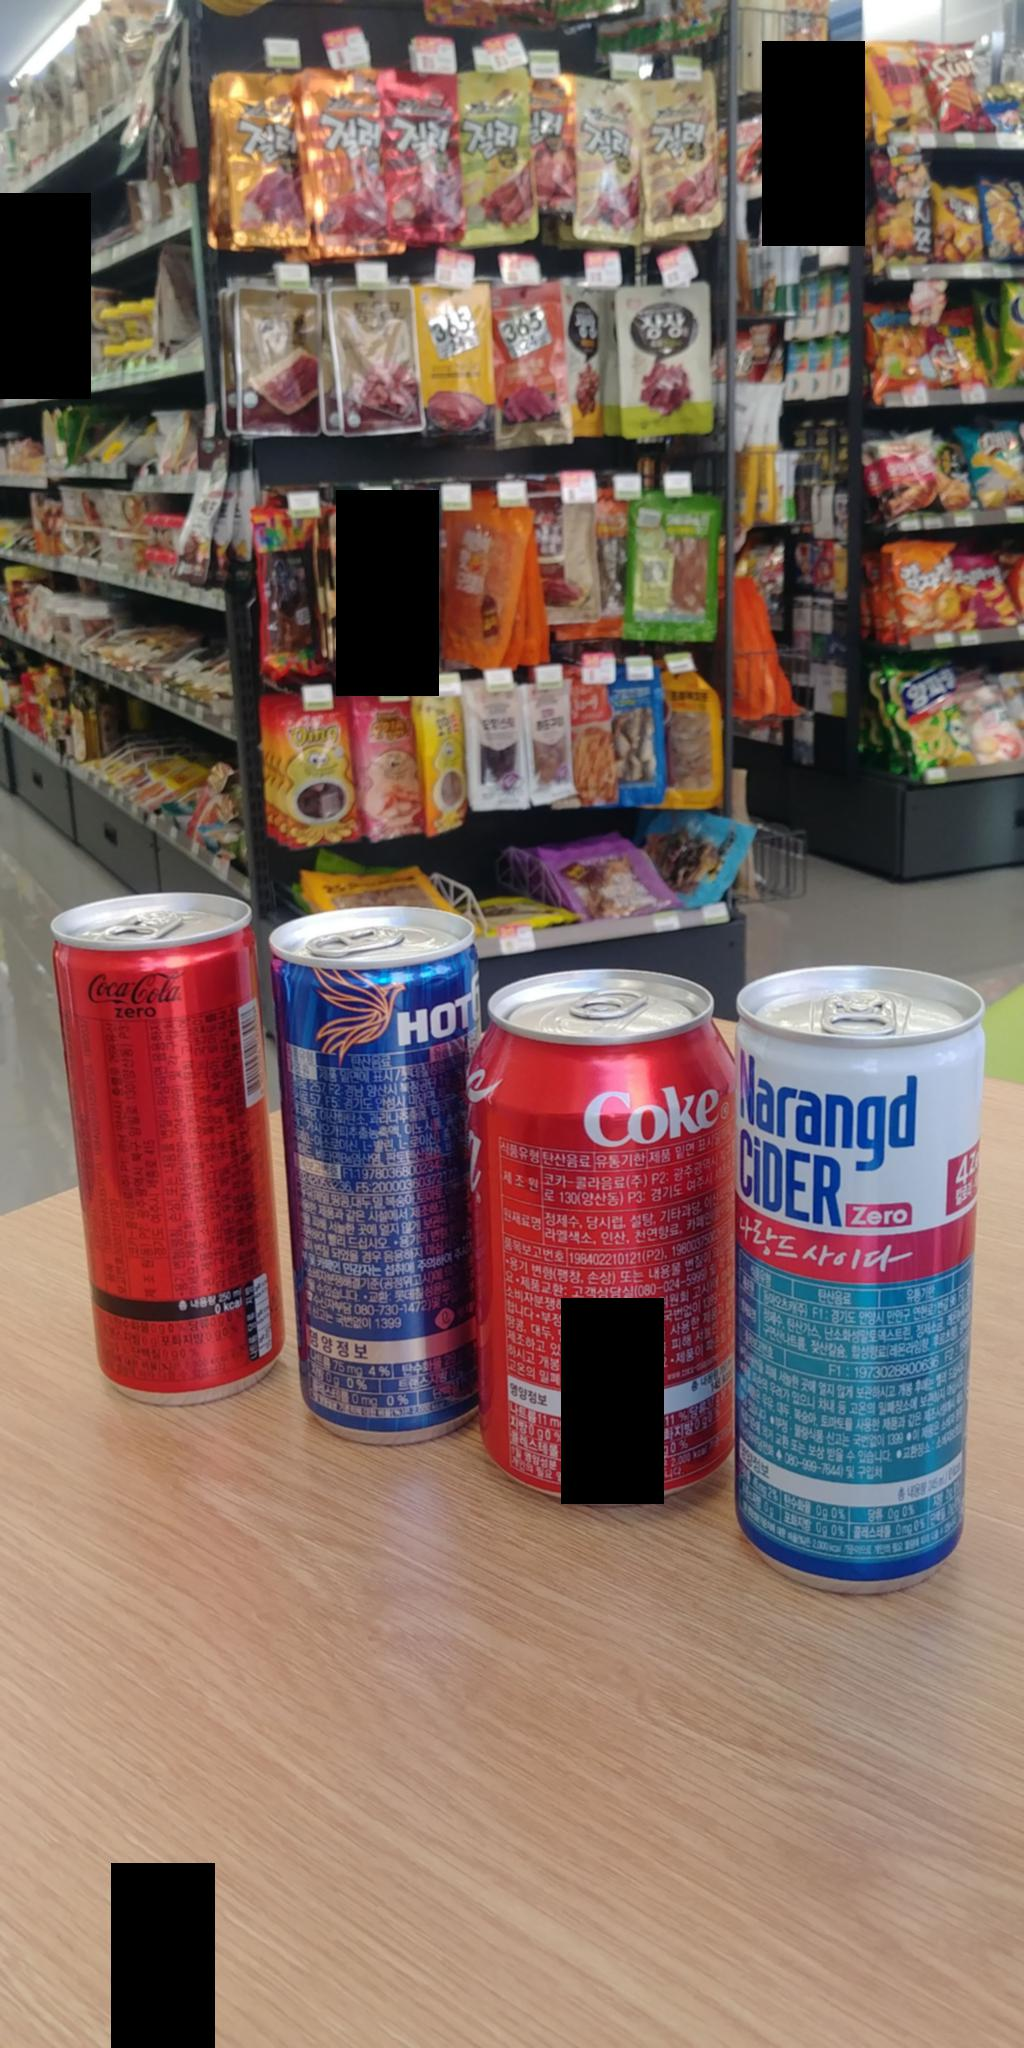cocacola: (488, 970, 731, 1566)
hotsix_org: (263, 906, 487, 1448)
narangdcider: (725, 930, 1023, 1638)
